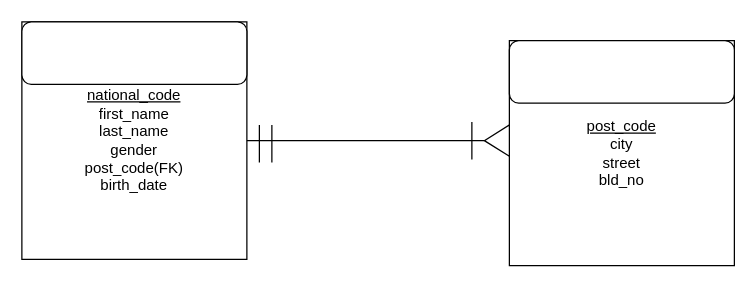
This 756x288 diagram has some shape labels left out. The centre of each missing label's shape, as x and y in pixels:
address: [621,71]
personal_data: [134,52]
